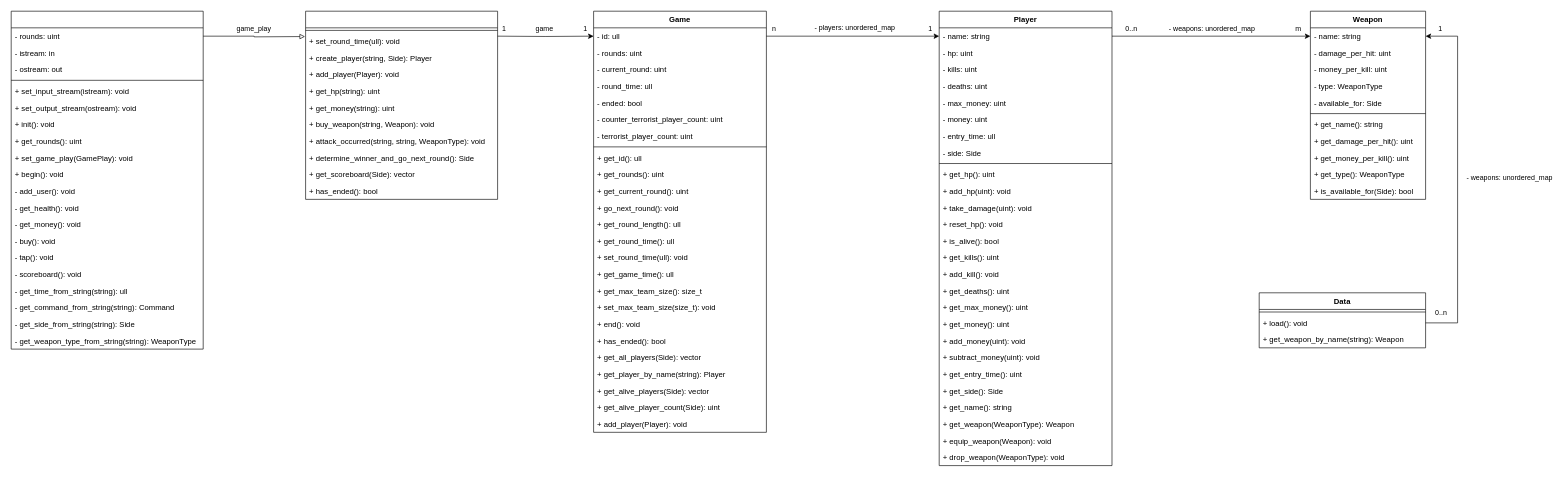
Image size: 1564x477. Some labels were removed from this diagram. The box of each missing label's shape, as (x1, y1, x2, y2) in pixels:
GamePlay: (305, 11, 498, 199)
Interactions: (11, 11, 203, 349)
